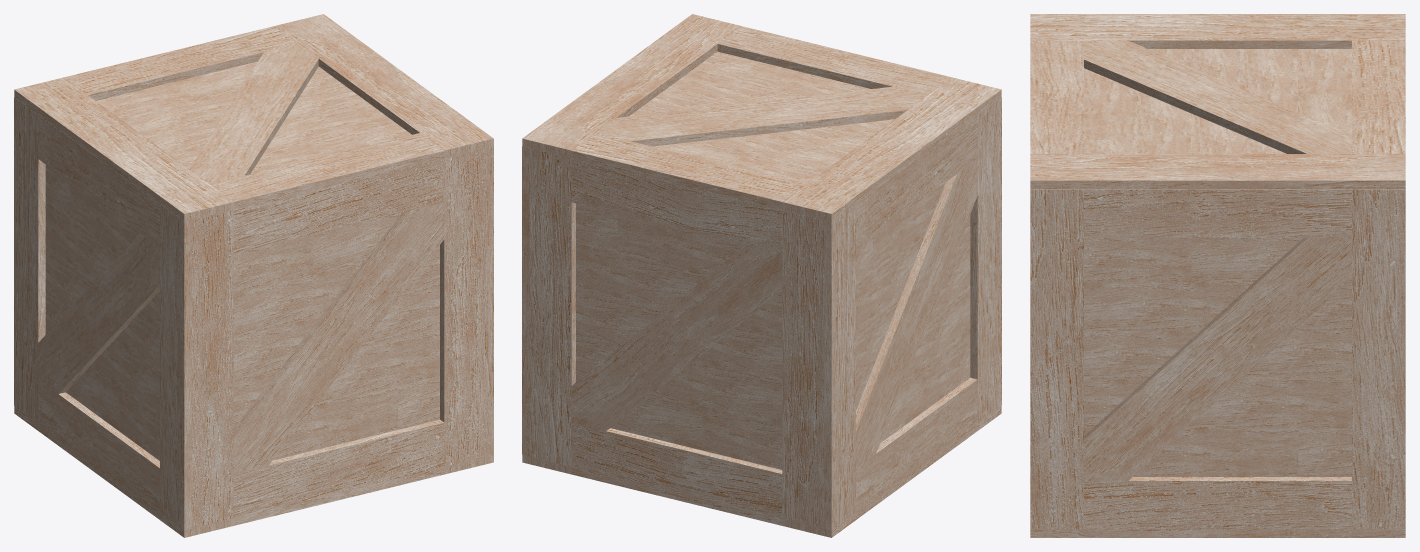
Rendered from Blender_Crate_Model_Only.fbx.
3 views of the same model, side by side, from view 1: azimuth 30°, elevation 25°; view 2: azimuth 150°, elevation 25°; view 3: azimuth 270°, elevation 25° (orthographic). The views are drawn at different scales.
Parts seen in each view (by area): view 1: SidePlank.002, PlankRight.002, PlankLeft.002, PlankBottom.002, PlankLeft.005, PlankLeft.003, PlankRight.005, PlankTop.002, PlankRight.003, SidePlank.003, SidePlank.005, PlankBottom.005 (+34 smaller); view 2: SidePlank.004, PlankRight.004, PlankLeft.004, SidePlank.003, PlankTop.004, PlankLeft.005, PlankRight.003, SidePlank.005, PlankBottom.004, PlankRight.005, PlankLeft.003, PlankTop.005 (+32 smaller); view 3: SidePlank.001, PlankLeft.001, PlankRight.001, PlankBottom.001, PlankRight.005, PlankTop.001, PlankLeft.005, SidePlank.005, PlankBehind.004, PlankBehind.007, PlankBehind.010, PlankBottom.005 (+17 smaller).
Boxes of the visible parts, <box> form: SidePlank.002: <box>233,202,444,473</box>; PlankRight.002: <box>440,148,486,466</box>; PlankLeft.002: <box>191,210,233,528</box>; PlankBottom.002: <box>233,419,444,517</box>; PlankLeft.005: <box>14,77,233,221</box>; PlankLeft.003: <box>160,204,191,530</box>; PlankRight.005: <box>274,14,493,158</box>; PlankTop.002: <box>233,158,444,253</box>; PlankRight.003: <box>14,97,45,422</box>; SidePlank.003: <box>38,233,159,393</box>; SidePlank.005: <box>189,44,318,183</box>; PlankBottom.005: <box>210,133,444,209</box>; SidePlank.004: <box>571,245,782,430</box>; PlankRight.004: <box>529,148,575,466</box>; PlankLeft.004: <box>782,210,824,528</box>; SidePlank.003: <box>856,159,977,467</box>; PlankTop.004: <box>571,423,782,517</box>; PlankLeft.005: <box>782,77,1001,221</box>; PlankRight.003: <box>824,204,855,530</box>; SidePlank.005: <box>596,86,927,146</box>; PlankBottom.004: <box>571,158,782,253</box>; PlankRight.005: <box>522,14,741,158</box>; PlankLeft.003: <box>970,97,1001,422</box>; PlankTop.005: <box>571,133,805,209</box>; SidePlank.001: <box>1084,237,1351,480</box>; PlankLeft.001: <box>1030,189,1083,529</box>; PlankRight.001: <box>1352,189,1405,529</box>; PlankBottom.001: <box>1084,477,1351,529</box>; PlankRight.005: <box>1030,154,1405,188</box>; PlankTop.001: <box>1084,189,1351,237</box>; PlankLeft.005: <box>1030,14,1405,48</box>; SidePlank.005: <box>1084,40,1351,153</box>; PlankBehind.004: <box>1084,282,1298,330</box>; PlankBehind.007: <box>1137,379,1351,428</box>; PlankBehind.010: <box>1084,428,1298,476</box>; PlankBottom.005: <box>1030,40,1083,153</box>.
Bounding box in the file's own units: 105 × 105 × 100.
